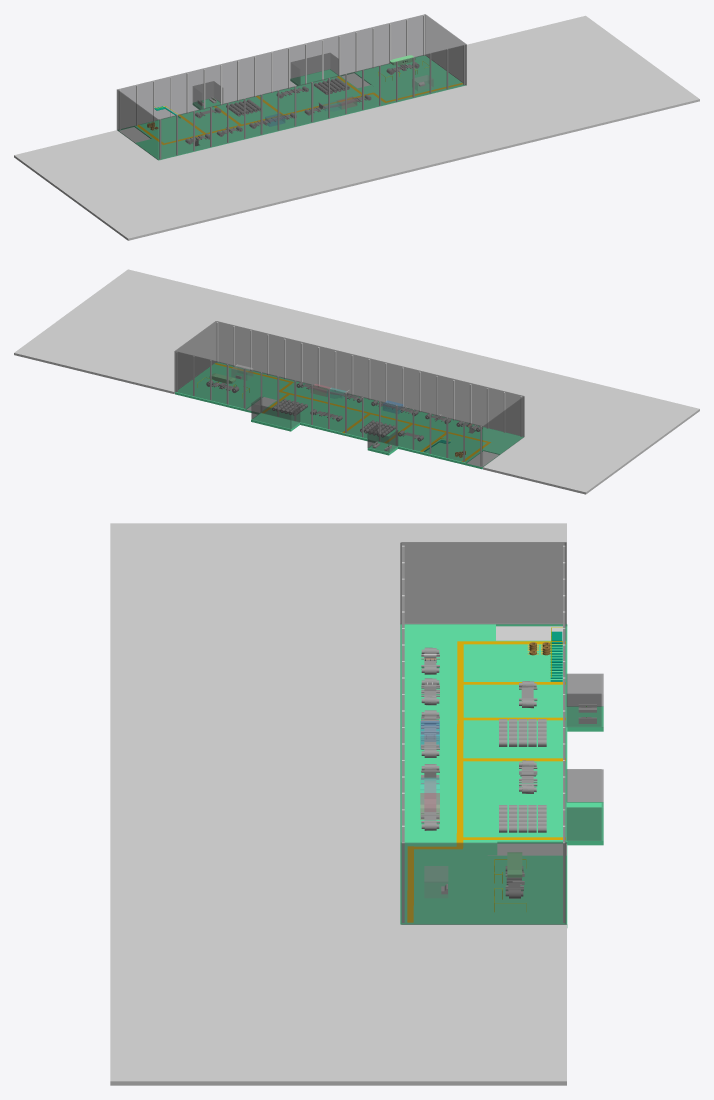
File: ichikawa.glb
The picture shows the model from 3 angles, top to bottom: view 1: azimuth 30°, elevation 25°; view 2: azimuth 150°, elevation 25°; view 3: azimuth 270°, elevation 25°; orthographic projection. The views are drawn at different scales.
Visible parts, largest first — view 1: 立方体.016, 壁-東.001, 壁-東, 床, 立方体.018, 立方体.017, 柱‐東, 柱‐西, 壁-東.003, 壁-東.002, 壁-東.009; view 2: 立方体.016, 壁-東, 壁-東.001, 床, 立方体.018, 立方体.017, 柱‐東, 柱‐西, 壁-東.003, 壁-東.002, 壁-東.009, 立方体.020 (+2 smaller); view 3: 立方体.016, 床, 立方体.018, 立方体.017, 壁-東.002, 壁-東.003, 立方体.020, 通路3, 壁-東.005, 壁-東.007, 壁-東.008, 壁-東.006 (+4 smaller).
Boxes of the visible parts, x1,y1,x2,y2 form: 立方体.016: (56, 46, 699, 240); 壁-東.001: (158, 44, 466, 159); 壁-東: (117, 14, 425, 129); 床: (118, 55, 465, 160); 立方体.018: (425, 15, 626, 85); 立方体.017: (14, 130, 158, 187); 柱‐東: (159, 45, 465, 159); 柱‐西: (119, 15, 424, 129); 壁-東.003: (116, 89, 158, 159); 壁-東.002: (425, 14, 466, 84); 壁-東.009: (291, 53, 329, 75); 立方体.016: (56, 269, 699, 463); 壁-東: (175, 351, 482, 466); 壁-東.001: (216, 321, 523, 436); 床: (175, 362, 523, 469); 立方体.018: (14, 322, 215, 393); 立方体.017: (483, 437, 628, 494); 柱‐東: (216, 322, 522, 436); 柱‐西: (176, 352, 481, 466); 壁-東.003: (482, 396, 524, 466); 壁-東.002: (174, 321, 216, 392); 壁-東.009: (251, 403, 291, 428); 立方体.020: (251, 413, 299, 431); 立方体.016: (110, 523, 400, 1085); 床: (400, 624, 567, 927); 立方体.018: (397, 924, 566, 1085); 立方体.017: (397, 523, 566, 624); 壁-東.002: (401, 842, 566, 924); 壁-東.003: (401, 542, 566, 623); 立方体.020: (567, 802, 603, 845); 通路3: (456, 641, 463, 847); 壁-東.005: (566, 693, 601, 727); 壁-東.007: (566, 807, 601, 840); 壁-東.008: (566, 769, 601, 802); 壁-東.006: (566, 673, 601, 706).
Size of the model in its own units: 220 by 18.47 by 82.22.
